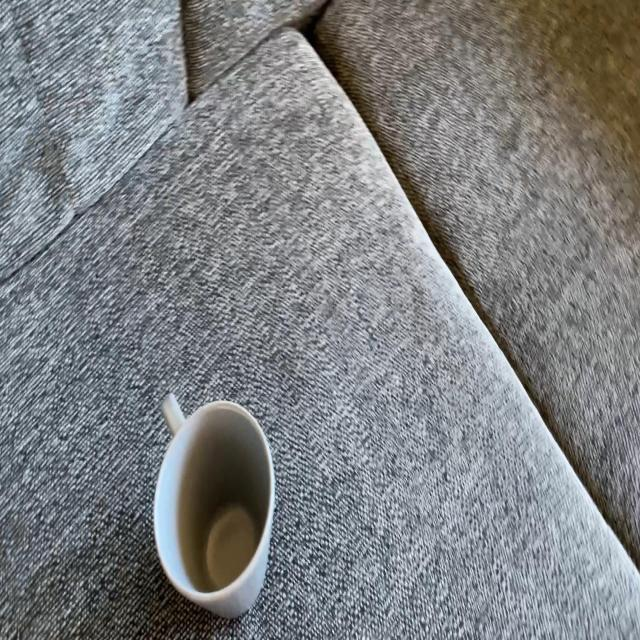cup: (152, 393, 278, 624)
